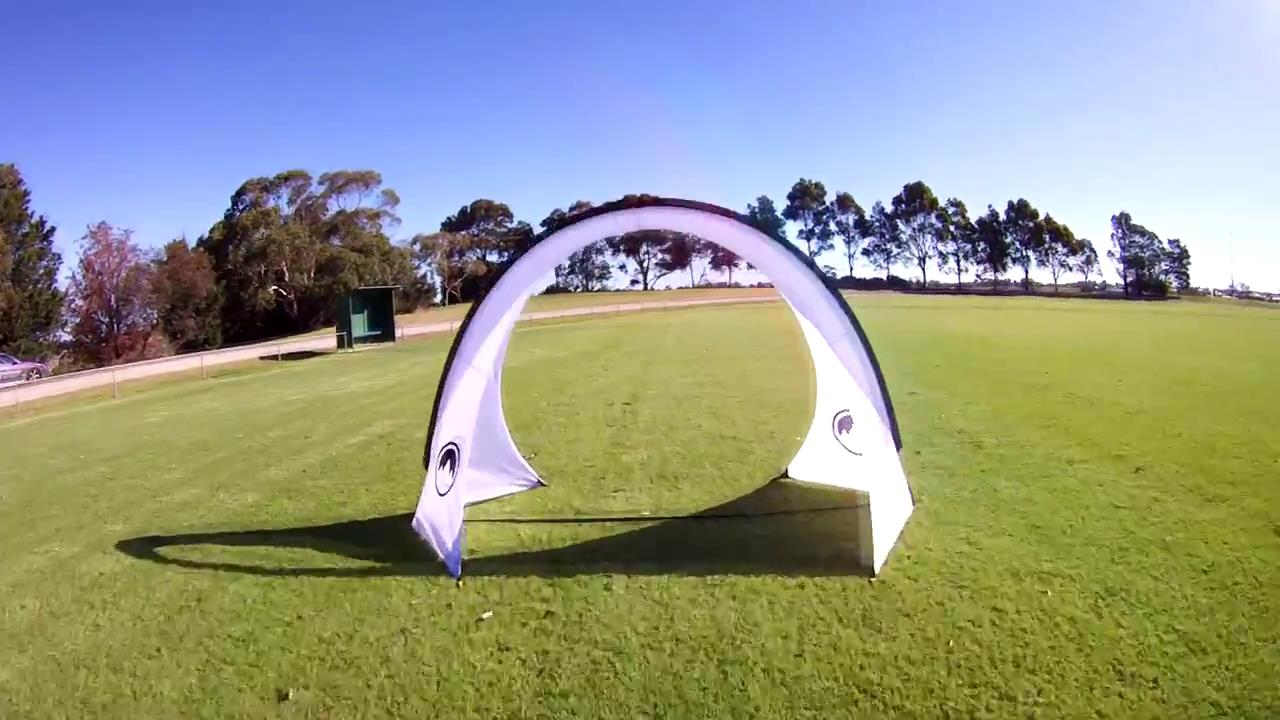gate: (410, 195, 918, 582)
